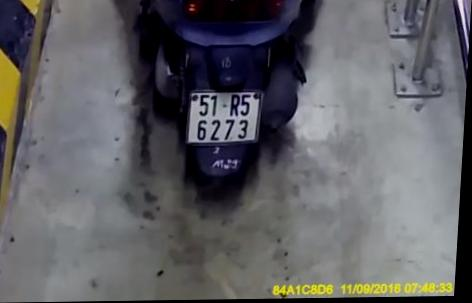License_Plate: (180, 85, 269, 150)
